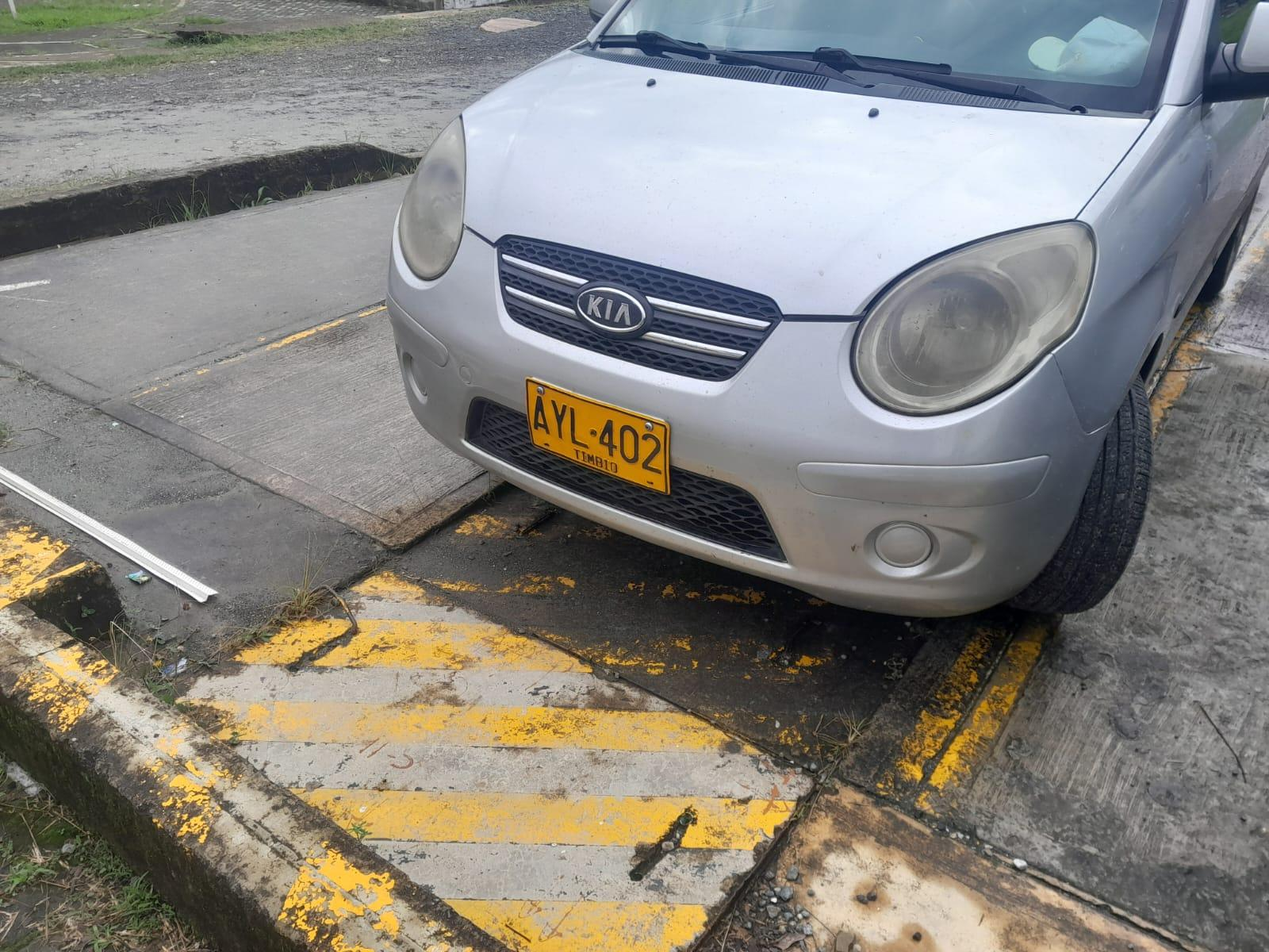placa: (527, 378, 668, 493)
